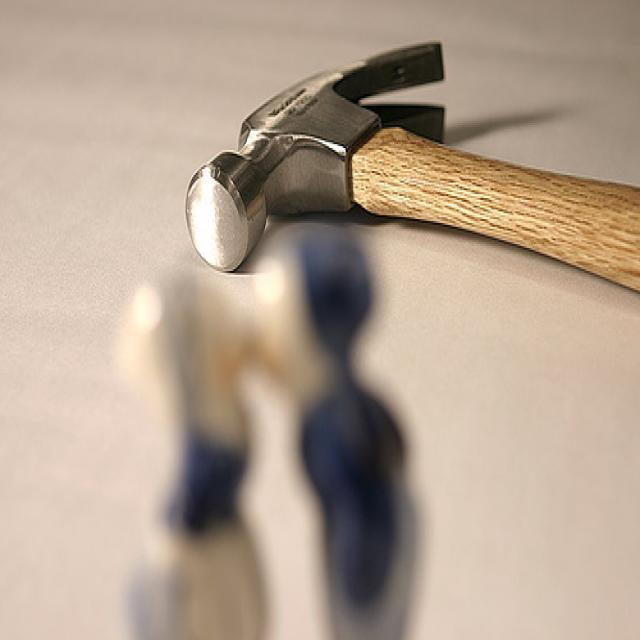hammer: (176, 25, 640, 344)
